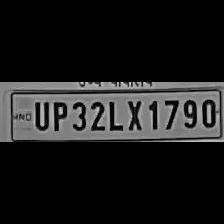0: (198, 96, 218, 128)
1: (144, 97, 160, 131)
2: (87, 96, 105, 132)
3: (68, 97, 88, 131)
7: (159, 96, 179, 132)
9: (178, 96, 198, 128)
L: (104, 97, 124, 131)
P: (48, 97, 68, 130)
U: (31, 97, 50, 130)
X: (124, 96, 144, 132)
